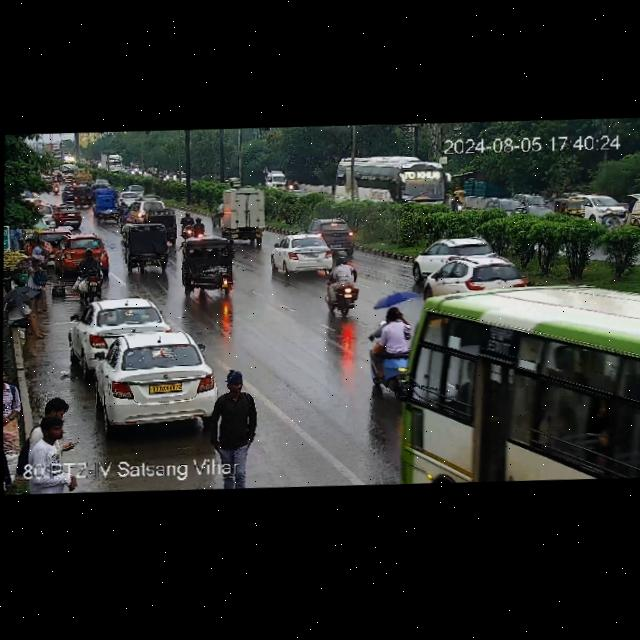bus: (409, 289, 640, 487), (339, 150, 462, 218)
car: (89, 333, 215, 432), (72, 294, 169, 358), (418, 251, 538, 298), (177, 236, 240, 303), (269, 231, 339, 275), (413, 231, 509, 263), (56, 229, 112, 276), (123, 223, 169, 274), (310, 215, 352, 253), (585, 191, 628, 222), (48, 201, 84, 232), (553, 190, 587, 222), (151, 204, 178, 242), (91, 194, 120, 222), (514, 192, 553, 212), (484, 195, 519, 213), (73, 185, 90, 206), (131, 200, 147, 220), (119, 189, 138, 205), (62, 183, 73, 200), (127, 184, 143, 195), (228, 179, 241, 187)
motorcycle: (368, 291, 419, 392), (320, 255, 363, 321), (75, 249, 106, 299), (19, 187, 48, 208), (182, 210, 193, 234), (194, 215, 205, 239), (121, 209, 133, 225), (453, 194, 463, 212), (119, 200, 128, 214)
person: (214, 367, 265, 479), (26, 393, 72, 494), (3, 365, 23, 488), (12, 300, 47, 342), (28, 256, 43, 313), (35, 240, 48, 266), (22, 236, 35, 256)
truck: (210, 185, 270, 247)
